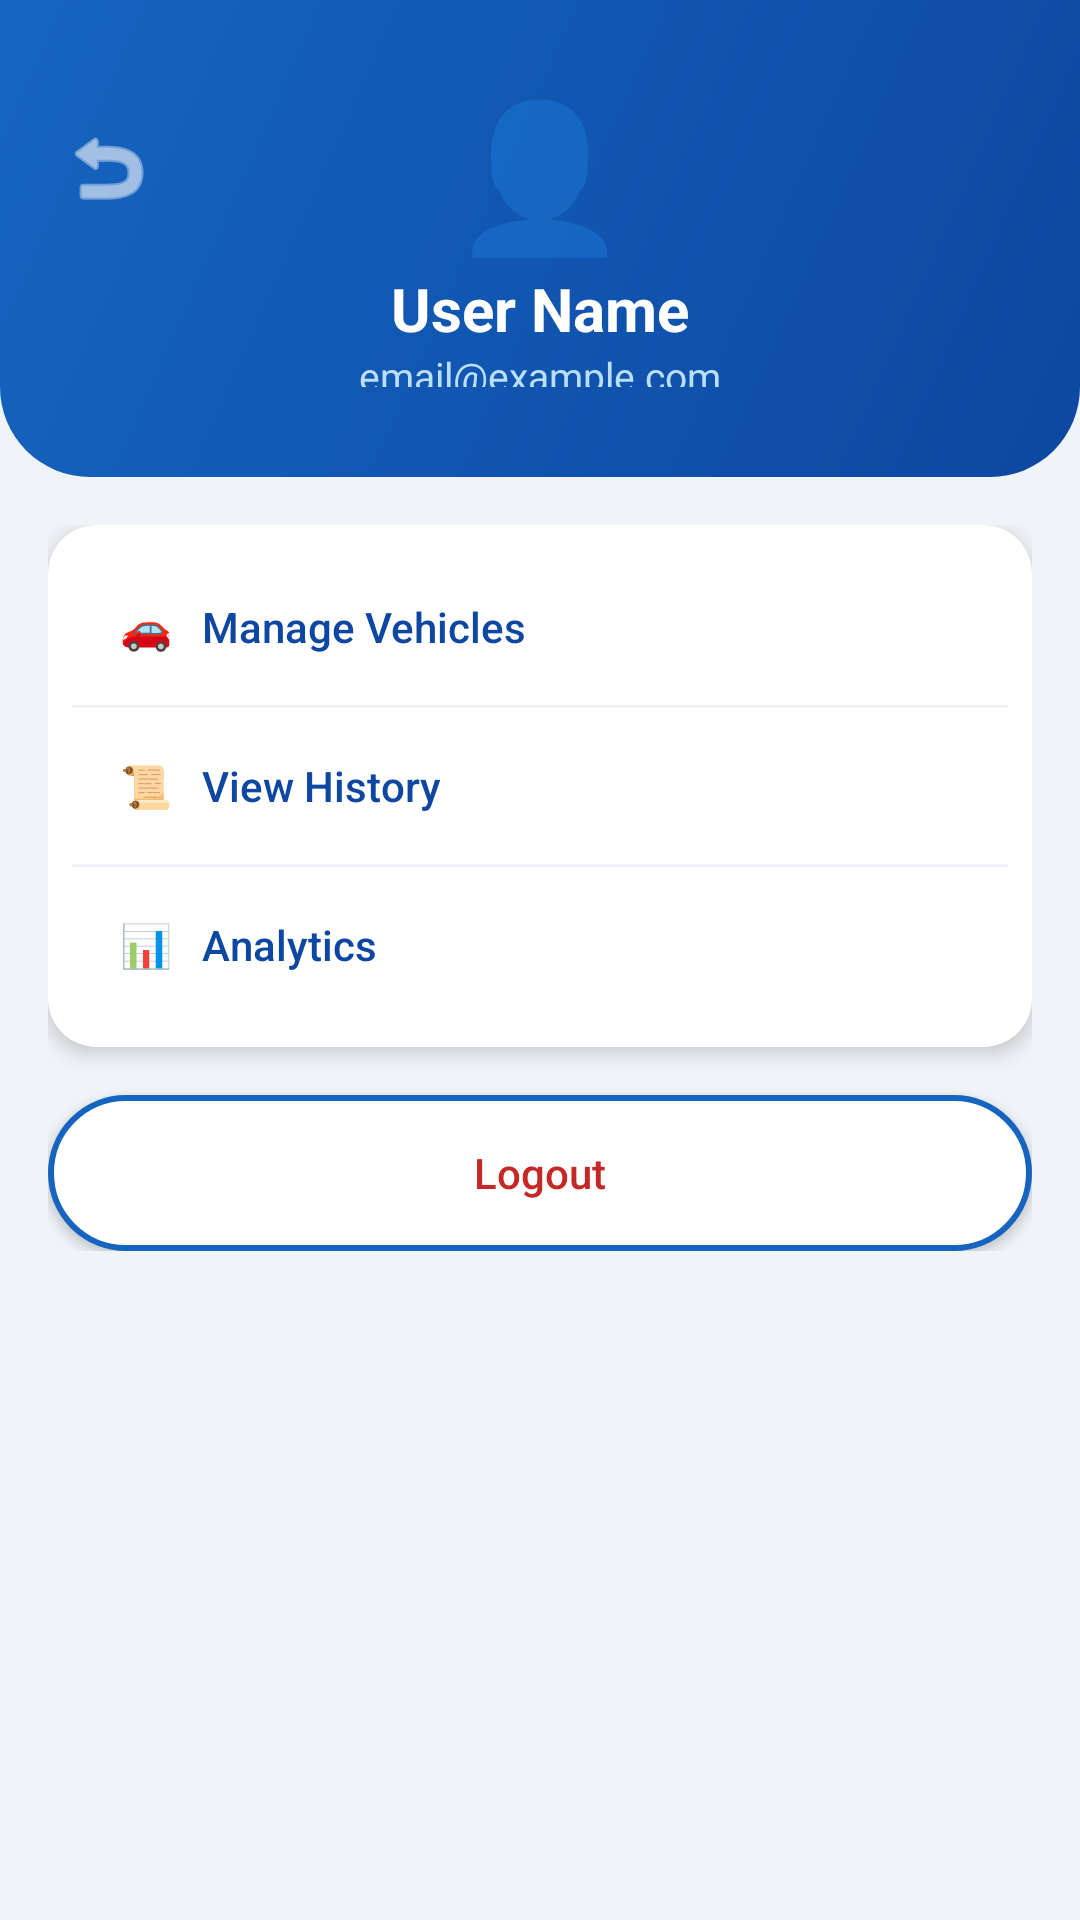

Screen size 1080*1920. Icon name, then its box in pixels as (x1, y1, x2, y2):
Back: (75, 137, 144, 200)
